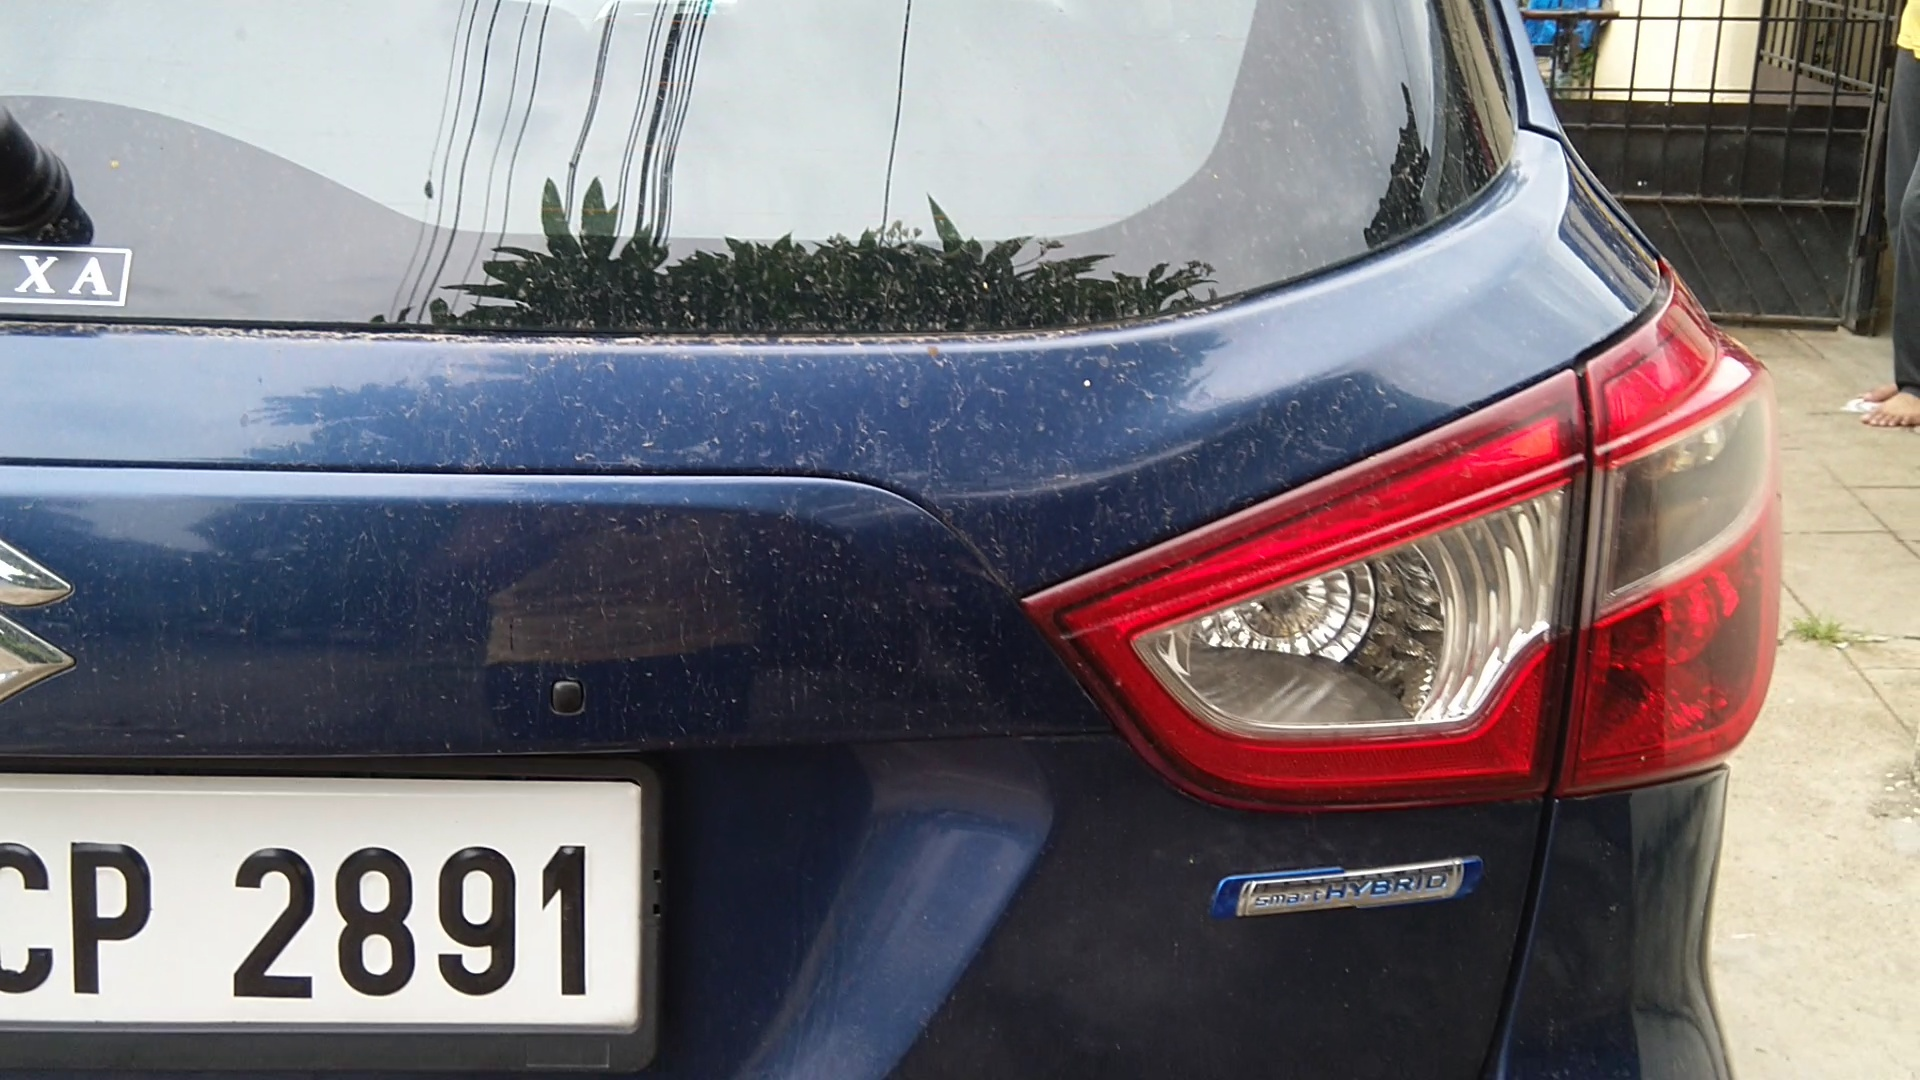shvs: (1197, 828, 1509, 955)
